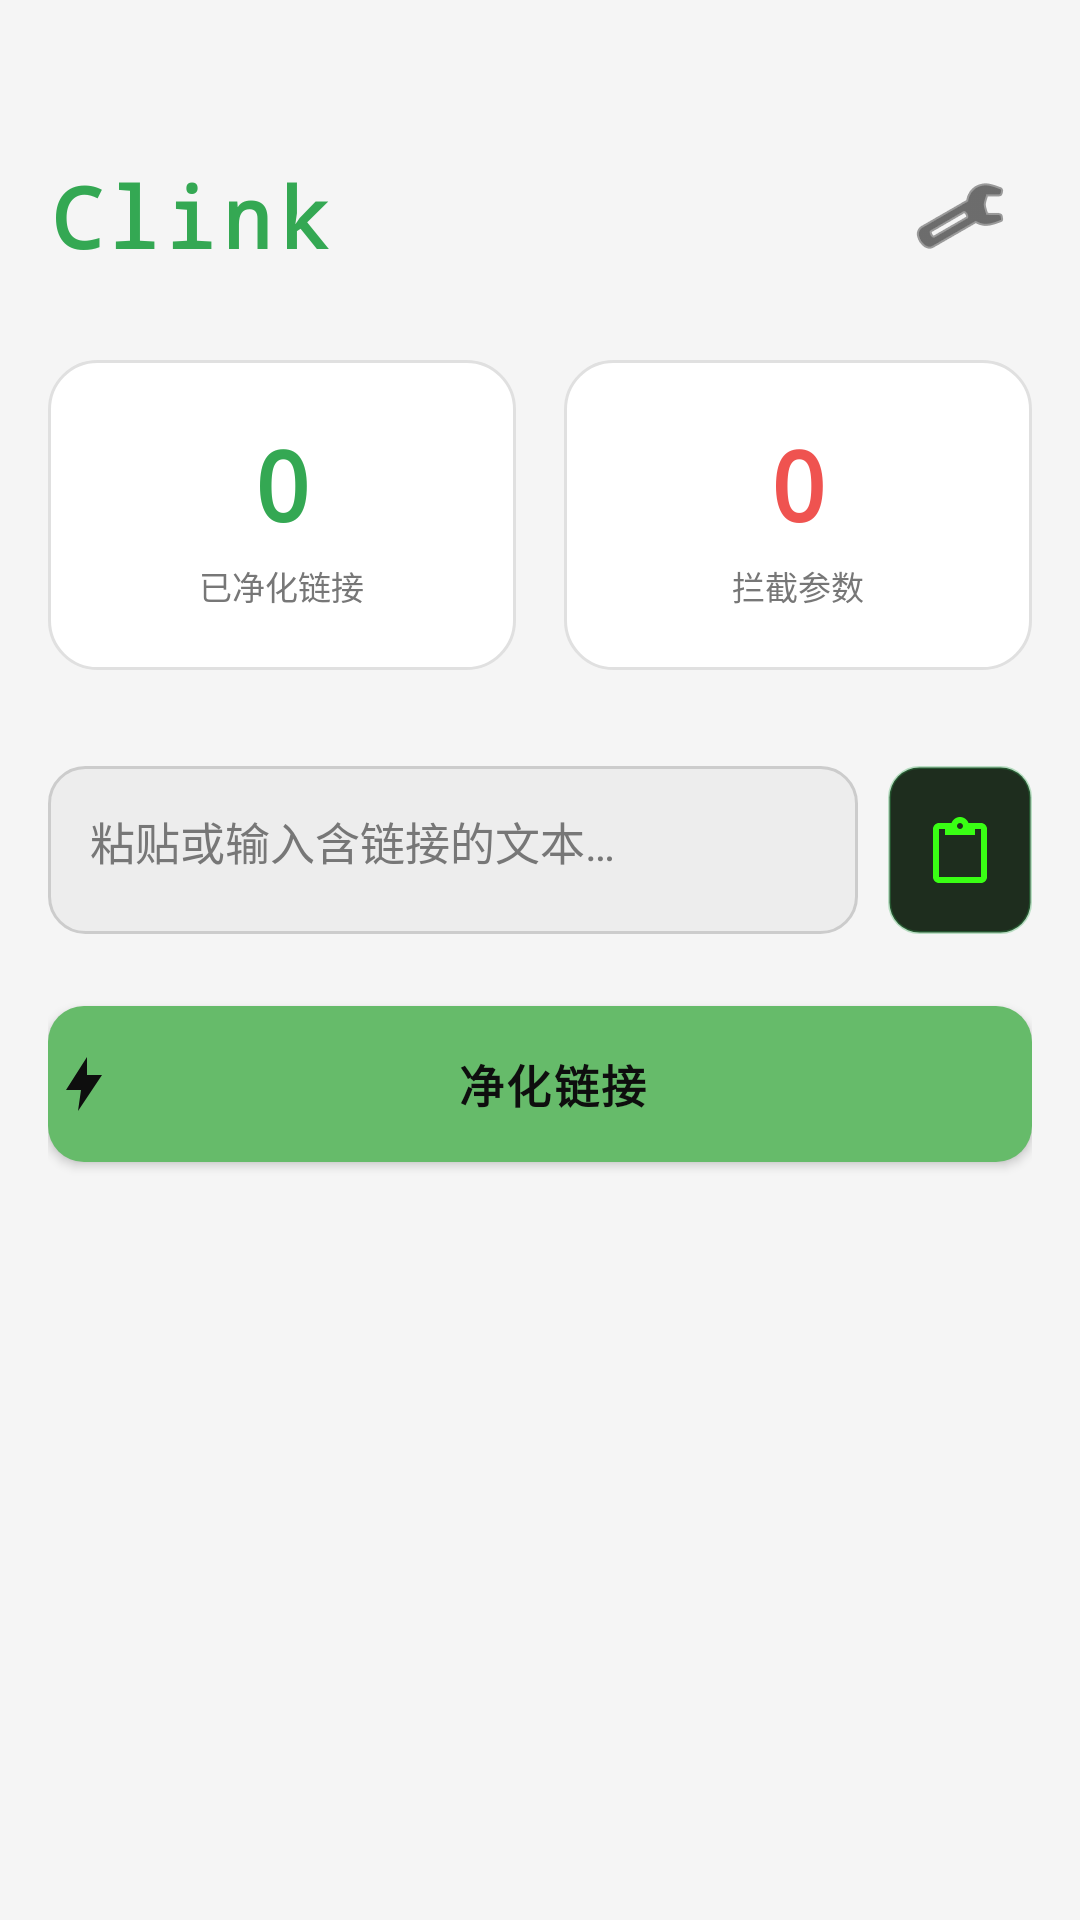

Icons on this 1080*1920 Android screen, each with the point to tap as point (x, y):
粘贴剪贴板: point (960, 850)
设置: point (960, 216)
